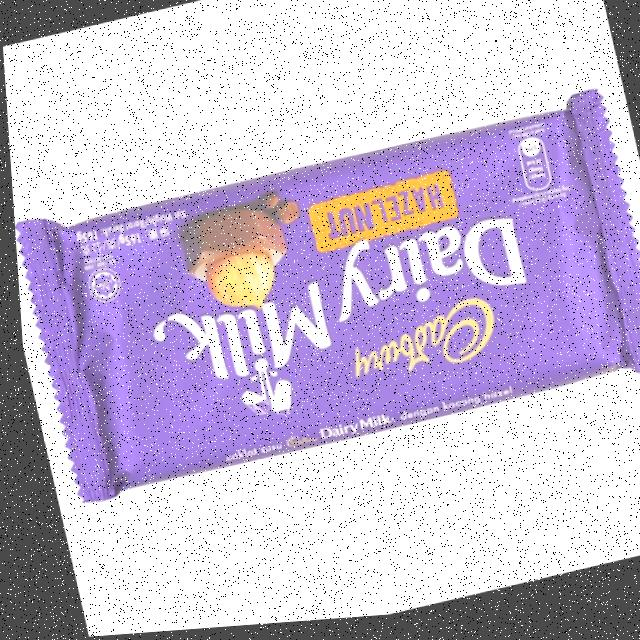cadbury: (7, 89, 640, 514)
